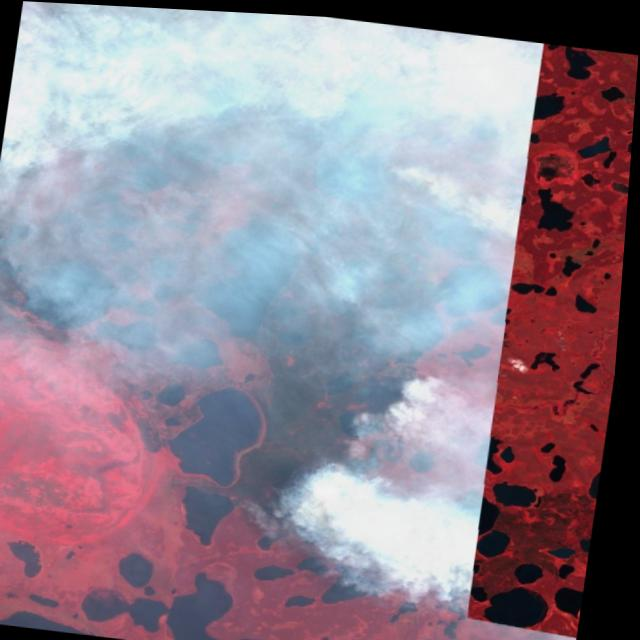fire: (217, 327, 449, 537), (235, 10, 362, 115), (357, 105, 448, 204)
